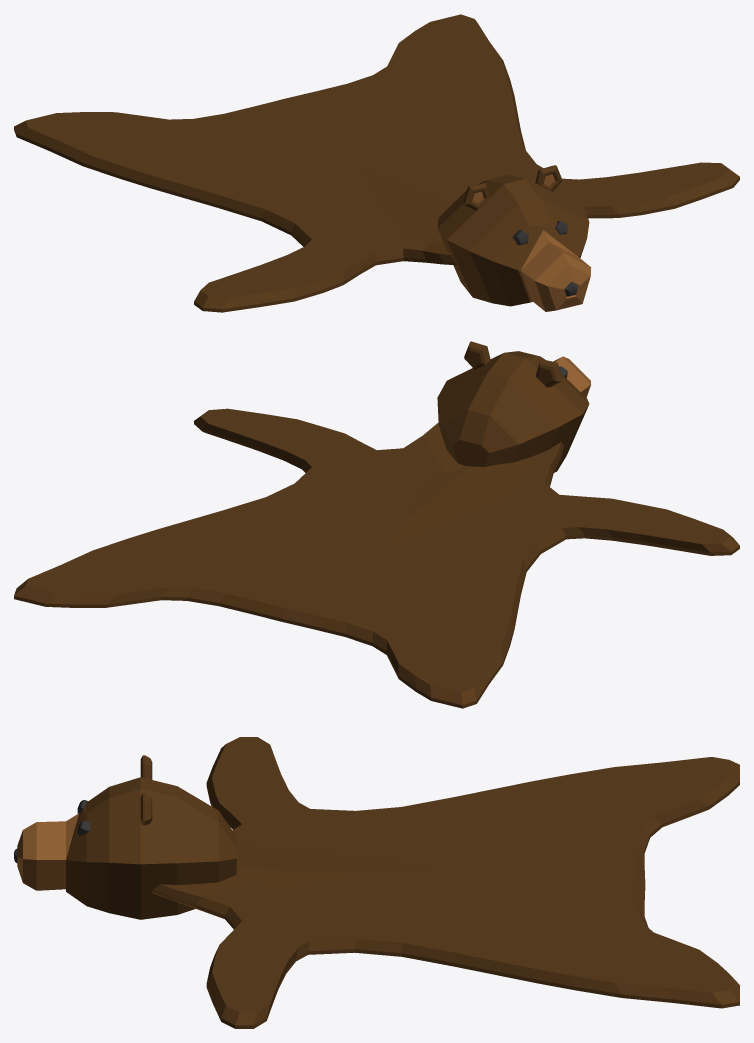
The model's file is G_Bear.fbx.
The picture shows the model from 3 angles, top to bottom: view 1: azimuth 30°, elevation 25°; view 2: azimuth 150°, elevation 25°; view 3: azimuth 270°, elevation 25°; orthographic projection. The views are drawn at different scales.
Visible parts, largest first — view 1: G_Bear; view 2: G_Bear; view 3: G_Bear.
Boxes of the visible parts, x1=… form: G_Bear: x1=14, y1=14, x2=739, y2=312; G_Bear: x1=14, y1=341, x2=739, y2=708; G_Bear: x1=14, y1=737, x2=739, y2=1028.
Size of the model in its own units: 295 by 57.97 by 319.
